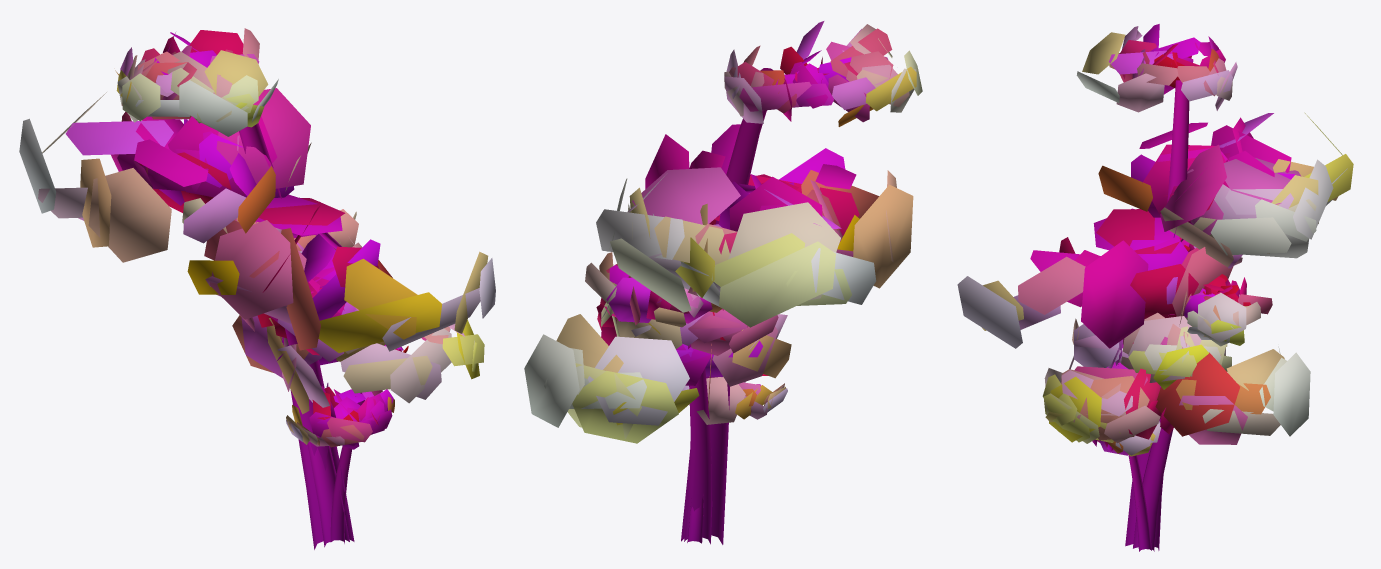
The model's file is tv_karst_pine.glb.
The picture shows the model from 3 angles, left to right: view 1: azimuth 30°, elevation 25°; view 2: azimuth 150°, elevation 25°; view 3: azimuth 270°, elevation 25°; orthographic projection. The views are drawn at different scales.
Parts seen in each view (by area): view 1: tv_karst_pine_v2_lod0, tv_karst_pine_v1_lod0, tv_karst_pine_v0_lod0; view 2: tv_karst_pine_v2_lod0, tv_karst_pine_v1_lod0, tv_karst_pine_v0_lod0; view 3: tv_karst_pine_v2_lod0, tv_karst_pine_v1_lod0, tv_karst_pine_v0_lod0.
Boxes of the visible parts, x1,y1,x2,y2 form: tv_karst_pine_v2_lod0: [19, 28, 495, 549]; tv_karst_pine_v1_lod0: [182, 198, 484, 547]; tv_karst_pine_v0_lod0: [286, 345, 408, 543]; tv_karst_pine_v2_lod0: [596, 21, 922, 544]; tv_karst_pine_v1_lod0: [524, 252, 791, 544]; tv_karst_pine_v0_lod0: [682, 374, 787, 543]; tv_karst_pine_v2_lod0: [957, 24, 1353, 550]; tv_karst_pine_v1_lod0: [1042, 240, 1310, 551]; tv_karst_pine_v0_lod0: [1092, 421, 1160, 551].
Size of what is drawn, in the model's own units: 7.78 by 11.46 by 9.27.
